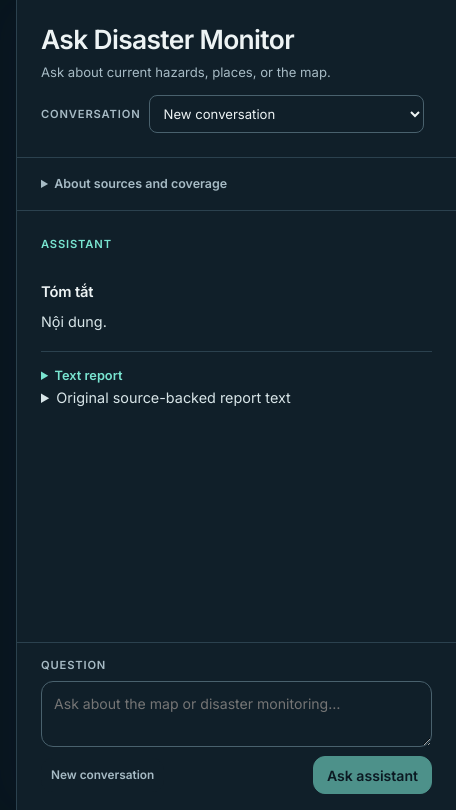
keeps the original source-backed report accessible after localization
Expected: the text "Original source-backed report." is not shown
Expected: the text "localized to vi" is not shown
Step 1. Click the heading "Original source-backed report text" → [174, 397], box [56, 389, 291, 406]
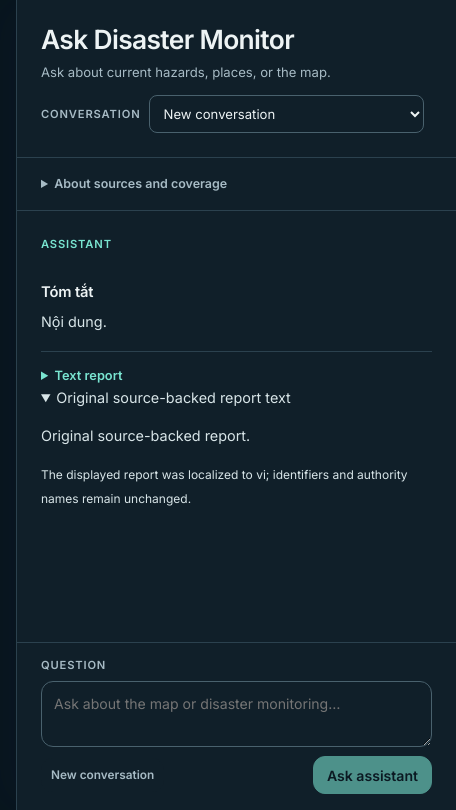
Expected: the text "Original source-backed report." is shown, [41, 427, 250, 444]
